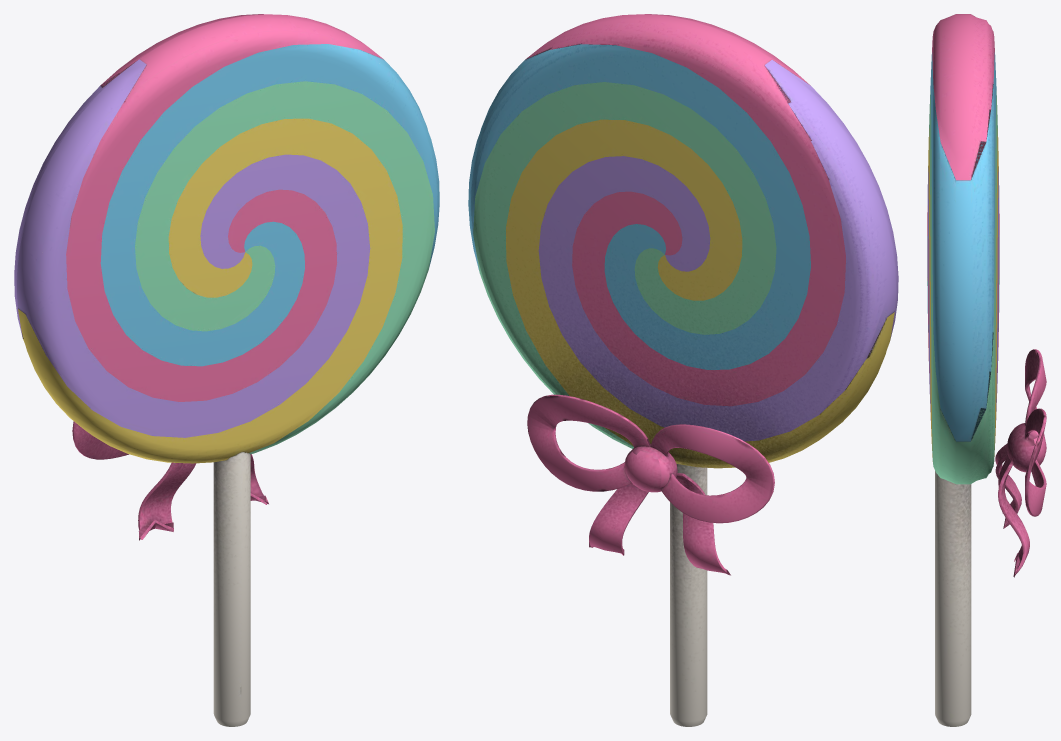
3 views of the same model, side by side, from view 1: azimuth 30°, elevation 25°; view 2: azimuth 150°, elevation 25°; view 3: azimuth 270°, elevation 25° (orthographic). The views are drawn at different scales.
Visible parts, largest first — view 1: Candy_glaze_4, Candy_glaze_0, Candy_glaze_3, Candy_glaze_1, Candy_glaze_2, Cream_matte_stick, Pink_satin_ribbon; view 2: Candy_glaze_4, Candy_glaze_0, Candy_glaze_1, Candy_glaze_2, Candy_glaze_3, Pink_satin_ribbon, Cream_matte_stick; view 3: Candy_glaze_1, Cream_matte_stick, Candy_glaze_0, Candy_glaze_2, Pink_satin_ribbon, Candy_glaze_3, Candy_glaze_4.
Boxes of the visible parts, x1=… form: Candy_glaze_4: x1=14, y1=59, x2=370, y2=437; Candy_glaze_0: x1=66, y1=14, x2=382, y2=401; Candy_glaze_3: x1=18, y1=118, x2=402, y2=463; Candy_glaze_1: x1=100, y1=44, x2=439, y2=366; Candy_glaze_2: x1=135, y1=81, x2=434, y2=454; Cream_matte_stick: x1=213, y1=452, x2=250, y2=726; Pink_satin_ribbon: x1=72, y1=421, x2=268, y2=540; Candy_glaze_4: x1=538, y1=60, x2=898, y2=441; Candy_glaze_0: x1=525, y1=14, x2=845, y2=406; Candy_glaze_1: x1=468, y1=44, x2=810, y2=369; Candy_glaze_2: x1=473, y1=82, x2=776, y2=448; Candy_glaze_3: x1=506, y1=119, x2=894, y2=468; Pink_satin_ribbon: x1=527, y1=394, x2=774, y2=575; Cream_matte_stick: x1=670, y1=464, x2=707, y2=726; Candy_glaze_1: x1=927, y1=52, x2=999, y2=441; Cream_matte_stick: x1=935, y1=471, x2=971, y2=726; Candy_glaze_0: x1=927, y1=14, x2=999, y2=372; Candy_glaze_2: x1=927, y1=91, x2=999, y2=484; Pink_satin_ribbon: x1=995, y1=349, x2=1046, y2=577; Candy_glaze_3: x1=928, y1=128, x2=998, y2=461; Candy_glaze_4: x1=927, y1=167, x2=999, y2=420.
Size of the model in its own units: 1.6 by 2.58 by 0.4059.
Materials: 7 (7 with a texture image).
